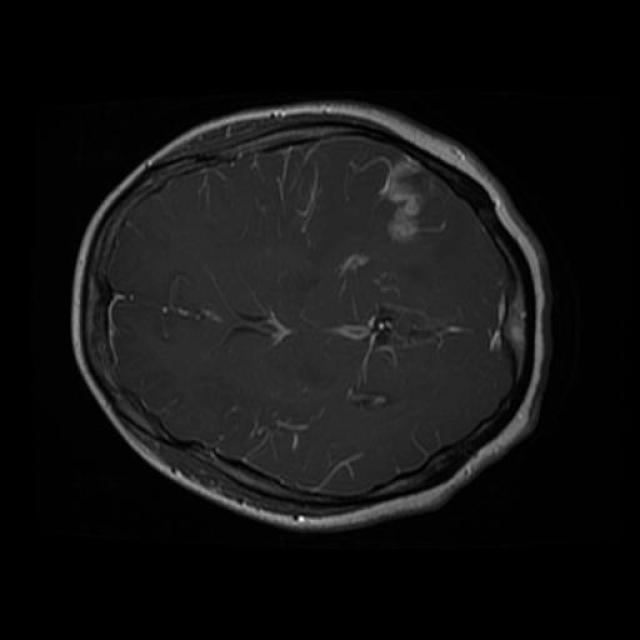Glioma: (380, 157, 443, 242)
